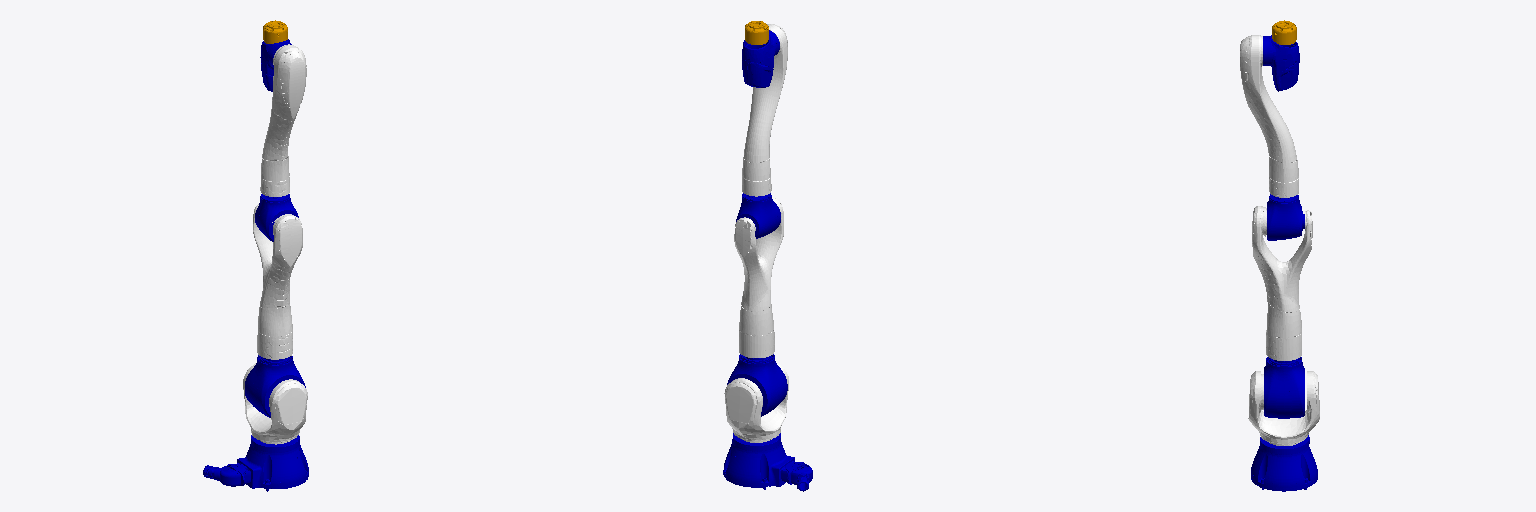
robot.urdf — mira:
<?xml version="1.0" ?>
<!-- =================================================================================== -->
<!-- |    This document was autogenerated by xacro from mira.urdf.xacro                | -->
<!-- |    EDITING THIS FILE BY HAND IS NOT RECOMMENDED                                 | -->
<!-- =================================================================================== -->
<robot name="mira" xmlns:controller="http://playerstage.sourceforge.net/gazebo/xmlschema/#controller" xmlns:interface="http://playerstage.sourceforge.net/gazebo/xmlschema/#interface" xmlns:sensor="http://playerstage.sourceforge.net/gazebo/xmlschema/#sensor" xmlns:xacro="http://wiki.ros.org/xacro">
  <!-- arm -->
  <material name="blue">
    <color rgba="0 0 0.8 1"/>
  </material>
  <material name="white">
    <color rgba="1 1 1 1"/>
  </material>
  <material name="MelonYellow">
    <color rgba="1.0 0.6 0.0 1.0"/>
  </material>
  <link name="root_link">
		</link>
  <joint name="root_joint" type="fixed">
    <!-- joint1 base_to_right_leg 0.2945 -->
    <origin rpy="0 0 1.5708" xyz="0 0 0.0"/>
    <axis xyz="0 0 1"/>
    <parent link="root_link"/>
    <child link="base_link"/>
  </joint>
  <link name="base_link">
    <!-- link0 -->
    <inertial>
      <mass value="9.287"/>
      <origin rpy="0 0 0" xyz="0.001152 0.008431 0.090866"/>
      <!-- did not chenge inertia values -->
      <inertia ixx="0.060447670" ixy="-0.000674868" ixz="0.000599404" iyy="0.048682260" iyz="0.003518544" izz="0.067886926"/>
    </inertial>
    <visual>
      <origin rpy="0 0 0" xyz="0 0 0"/>
      <geometry>
        <mesh filename="package://mira_description/meshes/mira/Link0.stl"/>
      </geometry>
      <material name="blue"/>
    </visual>
    <collision>
      <origin rpy="0 0 0" xyz="0 0 0"/>
      <geometry>
        <mesh filename="package://mira_description/meshes/collision/Link0.stl"/>
      </geometry>
      <material name="blue"/>
    </collision>
  </link>
  <link name="link1">
    <!-- link1 right_leg-->
    <inertial>
      <mass value="8.459"/>
      <origin rpy="0 0 0" xyz="-0.000000   -0.017180   -0.094023"/>
      <inertia ixx="0.113743317" ixy="0.000001208" ixz="0.000009013" iyy="0.091995793" iyz="0.013664636" izz="0.050460461"/>
    </inertial>
    <visual>
      <origin rpy="0 0 0" xyz="0 0 0"/>
      <geometry>
        <mesh filename="package://mira_description/meshes/mira/Link1.stl"/>
      </geometry>
      <material name="white"/>
    </visual>
    <collision>
      <origin rpy="0 0 0" xyz="0 0 0"/>
      <geometry>
        <mesh filename="package://mira_description/meshes/collision/Link1.stl"/>
      </geometry>
      <material name="white"/>
    </collision>
  </link>
  <joint name="joint1" type="revolute">
    <!-- joint1 base_to_right_leg 0.2945 -->
    <origin rpy="0 0 -1.5708" xyz="0 0 0.352"/>
    <axis xyz="0 0 1"/>
    <limit effort="1260" lower="-4.7139" upper="4.7139" velocity="7.60"/>
    <parent link="base_link"/>
    <child link="link1"/>
  </joint>
  <link name="link2">
    <!-- link2 right_base -->
    <inertial>
      <mass value="10.765"/>
      <origin rpy="0 0 0" xyz="0.000037   -0.027314   0.0004575"/>
      <inertia ixx="0.081072724" ixy="-0.000009804" ixz="0.000001496" iyy="0.042841834" iyz="-0.001181014" izz="0.086368018"/>
    </inertial>
    <visual>
      <origin rpy="0 0 0" xyz="0 0 0"/>
      <geometry>
        <mesh filename="package://mira_description/meshes/mira/Link2.stl"/>
      </geometry>
      <material name="blue"/>
    </visual>
    <collision>
      <origin rpy="0 0 0" xyz="0 0 0"/>
      <geometry>
        <mesh filename="package://mira_description/meshes/collision/Link2.stl"/>
      </geometry>
      <material name="blue"/>
    </collision>
  </link>
  <joint name="joint2" type="revolute">
    <!-- joint2 right_base_joint -->
    <origin rpy="-1.5708 0 0" xyz="0 0 0"/>
    <!-- or: 0 -1.5708 1.5708 or: 1.5708 -1.5708 0 up: -1.5708 0 0-->
    <axis xyz="0 0 1"/>
    <limit effort="710" lower="-2.11" upper="2.11" velocity="7.16"/>
    <safety_controller k_position="100" k_velocity="2" soft_lower_limit="-2.105948851735" soft_upper_limit="2.105948851735"/>
    <dynamics damping="13.0" friction="9.0"/>
    <parent link="link1"/>
    <child link="link2"/>
  </joint>
  <link name="link3">
    <!-- link3 right_front_wheel -->
    <inertial>
      <mass value="8.349"/>
      <origin rpy="0 0 0" xyz="-0.000001   -0.013598   -0.290813"/>
      <inertia ixx="0.392336377" ixy="-0.000003048" ixz="-0.000000326" iyy="0.380066908" iyz="0.028145369" izz="0.029166930"/>
    </inertial>
    <visual>
      <origin rpy="0 0 0" xyz="0 0 0"/>
      <geometry>
        <mesh filename="package://mira_description/meshes/mira/Link3.stl"/>
      </geometry>
      <material name="white"/>
    </visual>
    <collision>
      <origin rpy="0 0 0" xyz="0 0 0"/>
      <geometry>
        <mesh filename="package://mira_description/meshes/collision/Link3.stl"/>
      </geometry>
      <material name="white"/>
    </collision>
  </link>
  <joint name="joint3" type="revolute">
    <!-- joint3 right_front_wheel_joint -->
    <origin rpy="1.5708 0 0" xyz="0 -0.7 0"/>
    <!-- thin left: 1.5708 3.1416 0  -->
    <axis xyz="0 0 1"/>
    <limit effort="380" lower="-4.7139" upper="4.7139" velocity="9.43"/>
    <safety_controller k_position="100" k_velocity="2" soft_lower_limit="-3.05948851735" soft_upper_limit="3.05948851735"/>
    <dynamics damping="10.0" friction="4.5"/>
    <parent link="link2"/>
    <child link="link3"/>
  </joint>
  <link name="link4">
    <!-- link4 right_back_wheel -->
    <inertial>
      <mass value="3.492"/>
      <origin rpy="0 0 0" xyz="-0.000   -0.022   -0.005"/>
      <inertia ixx="0.020" ixy="0.000" ixz="0.000" iyy="0.011" iyz="0.001" izz="0.020"/>
    </inertial>
    <visual>
      <origin rpy="0 0 0" xyz="0 0 0"/>
      <geometry>
        <mesh filename="package://mira_description/meshes/mira/Link4.stl"/>
      </geometry>
      <material name="blue"/>
    </visual>
    <collision>
      <origin rpy="0 0 0" xyz="0 0 0"/>
      <geometry>
        <mesh filename="package://mira_description/meshes/collision/Link4.stl"/>
      </geometry>
      <material name="blue"/>
    </collision>
  </link>
  <joint name="joint4" type="revolute">
    <!-- joint4 right_back_wheel_joint -->
    <origin rpy="-1.5708 0 0" xyz="0 0 0"/>
    <axis xyz="0 0 1"/>
    <limit effort="70" lower="-2.61" upper="2.61" velocity="17.4"/>
    <safety_controller k_position="100" k_velocity="2" soft_lower_limit="-2.55948851735" soft_upper_limit="2.55948851735"/>
    <dynamics damping="2.5" friction="4.0"/>
    <parent link="link3"/>
    <child link="link4"/>
  </joint>
  <link name="link5">
    <!-- link5 left_leg -->
    <inertial>
      <mass value="5.754"/>
      <origin rpy="0 0 0" xyz="-0.000057   0.053098   -0.273990"/>
      <inertia ixx="1.449365143" ixy="0.000018591" ixz="0.000039466" iyy="1.438364393" iyz="-0.060563427" izz="1.151203697"/>
    </inertial>
    <visual>
      <origin rpy="0 0 0" xyz="0 0 0"/>
      <geometry>
        <mesh filename="package://mira_description/meshes/mira/Link5.stl"/>
      </geometry>
      <material name="white"/>
    </visual>
    <collision>
      <origin rpy="0 0 0" xyz="0 0 0"/>
      <geometry>
        <mesh filename="package://mira_description/meshes/collision/Link5.stl"/>
      </geometry>
      <material name="white"/>
      <!-- 
				<origin rpy="0 0 0" xyz="0 0 -0.23" />
				<geometry>
					<cylinder length="0.46" radius="0.115" />
				</geometry> -->
    </collision>
  </link>
  <joint name="joint5" type="revolute">
    <!-- joint5 base_to_left_leg -0.65 -->
    <origin rpy="1.5708 3.14159 0" xyz="0 -0.7 0"/>
    <axis xyz="0 0 1"/>
    <limit effort="80" lower="-4.7139" upper="4.7139" velocity="18.6"/>
    <safety_controller k_position="100" k_velocity="2" soft_lower_limit="-2.55948851735" soft_upper_limit="2.55948851735"/>
    <dynamics damping="5.0" friction="4.0"/>
    <parent link="link4"/>
    <child link="link5"/>
  </joint>
  <link name="link6">
    <!-- link6 left_base -->
    <inertial>
      <mass value="2.796"/>
      <origin rpy="0 0 0" xyz="-0.000057   0.011938   0.023545"/>
      <inertia ixx="0.009259033" ixy="0.000011235" ixz="0.000001260" iyy="0.007040723" iyz="0.000600999" izz="0.006307701"/>
    </inertial>
    <visual>
      <origin rpy="0 0 0" xyz="0 0 0"/>
      <geometry>
        <mesh filename="package://mira_description/meshes/mira/Link6.stl"/>
      </geometry>
      <material name="blue"/>
    </visual>
    <collision>
      <origin rpy="0 0 0" xyz="0 0 0"/>
      <geometry>
        <mesh filename="package://mira_description/meshes/collision/Link6.stl"/>
      </geometry>
      <material name="blue"/>
    </collision>
  </link>
  <joint name="joint6" type="revolute">
    <!-- joint6 -->
    <origin rpy="-1.5708 0 0" xyz="0 0 0"/>
    <axis xyz="0 0 1"/>
    <limit effort="21" lower="-4.7124" upper="4.7124" velocity="25.3"/>
    <safety_controller k_position="100" k_velocity="2" soft_lower_limit="-4.0" soft_upper_limit="4.0"/>
    <dynamics damping="1.25" friction="1.25"/>
    <parent link="link5"/>
    <child link="link6"/>
  </joint>
  <link name="link7">
    <inertial>
      <mass value="1.194"/>
      <origin rpy="0 0 0" xyz="0.000055  0.000468   0.041628"/>
      <inertia ixx="0.002520968" ixy="0.000000432" ixz="-0.000007917" iyy="0.002521011" iyz="-0.000025082" izz="0.000916680"/>
    </inertial>
    <visual>
      <origin rpy="0 0 0" xyz="0 0 0"/>
      <geometry>
        <mesh filename="package://mira_description/meshes/mira/Link7.stl"/>
      </geometry>
    </visual>
    <collision>
      <origin rpy="0 0 0" xyz="0 0 0"/>
      <geometry>
        <mesh filename="package://mira_description/meshes/collision/Link7.stl"/>
      </geometry>
    </collision>
  </link>
  <joint name="joint7" type="revolute">
    <!-- joint7 -->
    <origin rpy="1.5708 0 0" xyz="0 0 0"/>
    <axis xyz="0 0 1"/>
    <limit effort="10" lower="-6.2832" upper="6.2832" velocity="10"/>
    <safety_controller k_position="10" k_velocity="1" soft_lower_limit="-4.0" soft_upper_limit="4.0"/>
    <dynamics damping="2" friction="2"/>
    <parent link="link6"/>
    <child link="link7"/>
  </joint>
  <link name="tool0"/>
  <joint name="link7_to_tool0" type="fixed">
    <!-- joint7 -->
    <origin rpy="0 0 0" xyz="0 0 0.10"/>
    <parent link="link7"/>
    <child link="tool0"/>
  </joint>
  <link name="flange"/>
  <joint name="link7_to_flange" type="fixed">
    <!-- joint7 -->
    <origin rpy="0 0 0" xyz="0 0 0.10"/>
    <parent link="link7"/>
    <child link="flange"/>
  </joint>
  <link name="ee_link"/>
  <joint name="flange_to_ee_link" type="fixed">
    <!-- joint7 -->
    <origin rpy="0 0 0" xyz="0 0 0.10"/>
    <parent link="link7"/>
    <child link="ee_link"/>
  </joint>
  <link name="world"/>
  <joint name="world_joint" type="fixed">
    <parent link="world"/>
    <child link="root_link"/>
    <origin rpy="0.0 0.0 0.0" xyz="0.0 0.0 0.0"/>
  </joint>
</robot>

--- Facts derived from the render (not from the file) ---
3 views of the same robot in one strip: view 1: azimuth 30°, elevation 25°; view 2: azimuth 150°, elevation 25°; view 3: azimuth 270°, elevation 25° (orthographic).
Robot: mira — 13 links, 12 joints (7 revolute, 5 fixed); root link world; default pose: all joints at 0.
Links seen in each view (by area): view 1: link3, link5, base_link, link1, link2, link4, link6; view 2: link3, link5, base_link, link1, link2, link6, link4; view 3: link3, link5, base_link, link1, link2, link4, link6, link7.
Boxes of the visible links, x1,y1,x2,y2 form: link3: [253, 204, 302, 359]; link5: [260, 44, 306, 196]; base_link: [203, 435, 308, 491]; link1: [243, 363, 307, 444]; link2: [245, 355, 305, 417]; link4: [255, 194, 298, 241]; link6: [260, 39, 291, 91]; link3: [734, 197, 783, 357]; link5: [742, 24, 787, 196]; base_link: [723, 433, 812, 491]; link1: [724, 362, 788, 442]; link2: [727, 354, 787, 416]; link6: [742, 30, 779, 87]; link4: [736, 193, 780, 238]; link3: [1252, 206, 1312, 360]; link5: [1240, 35, 1298, 197]; base_link: [1251, 435, 1317, 491]; link1: [1248, 371, 1319, 445]; link2: [1264, 357, 1304, 418]; link4: [1267, 194, 1304, 240]; link6: [1263, 35, 1299, 91]; link7: [1272, 20, 1296, 44].
Size in the robot's own frame: 0.3938 by 0.2995 by 1.88 metres.
8 mesh visuals loaded from 8 distinct referenced files (8 binary STL).
